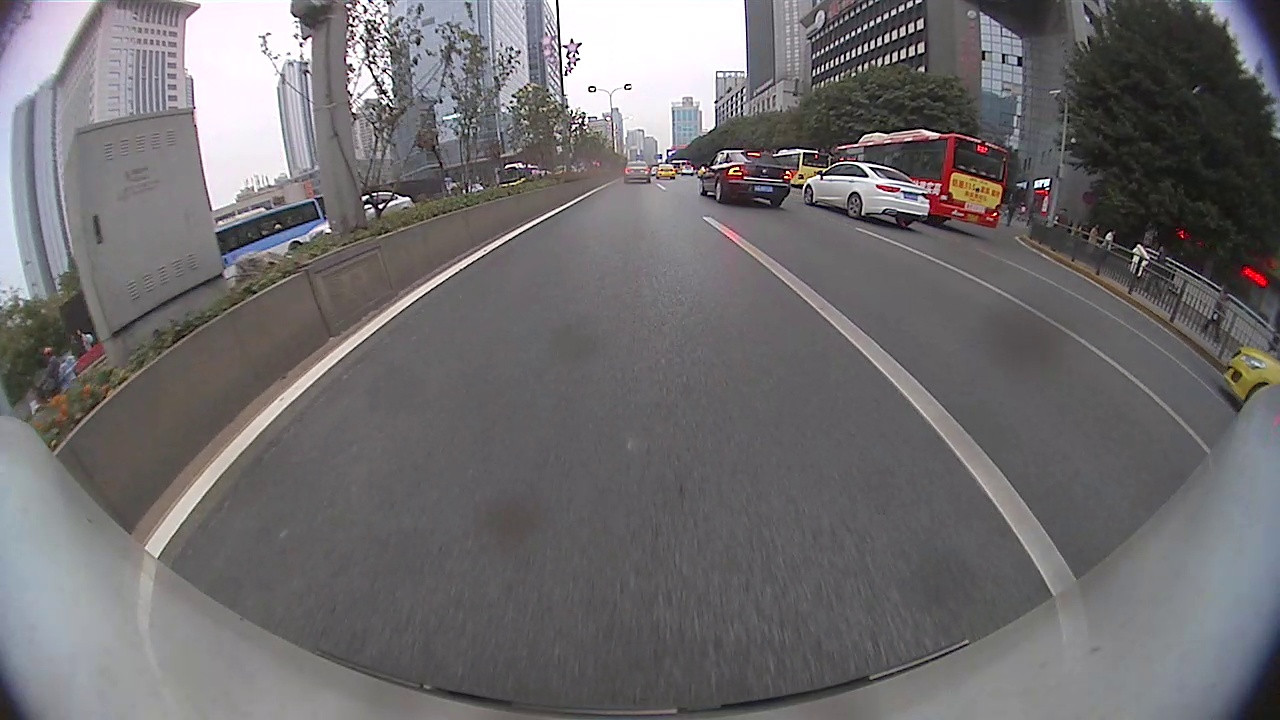bus: (831, 131, 1008, 230), (215, 197, 332, 267), (773, 148, 829, 188)
car: (801, 160, 931, 227), (697, 149, 792, 209), (310, 192, 414, 244), (1220, 345, 1279, 405), (624, 160, 651, 182)
front: (801, 186, 816, 206)
person: (1214, 287, 1231, 346), (1133, 240, 1147, 289), (1104, 225, 1115, 263), (1089, 220, 1099, 258)
rear: (847, 194, 866, 221), (713, 179, 726, 203)
rider: (26, 343, 72, 414)
